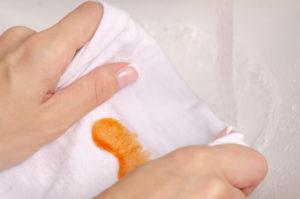gun: (90, 118, 144, 171)
